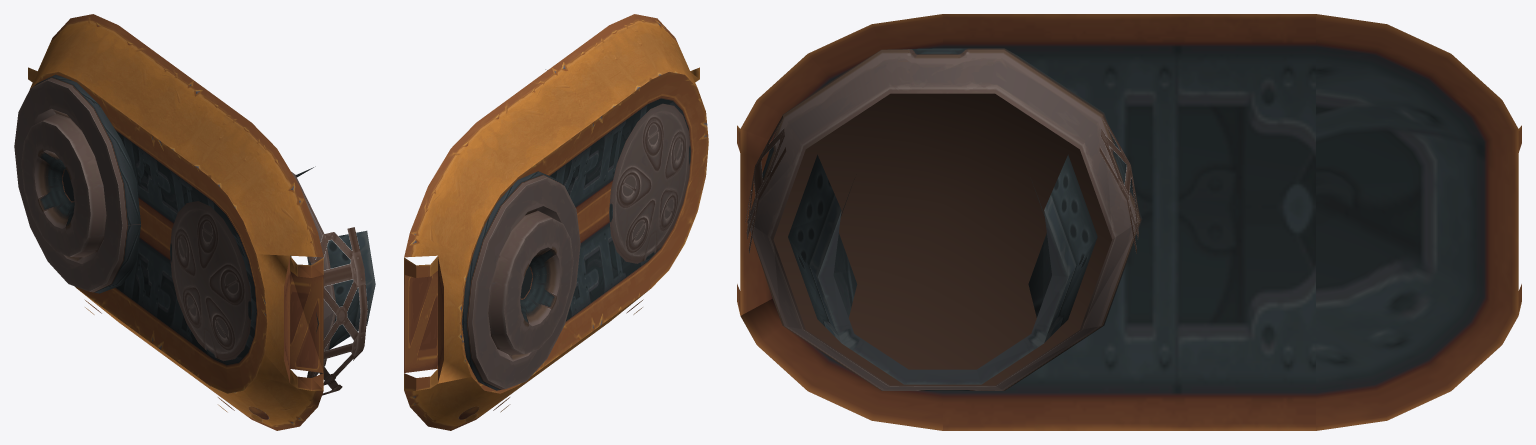
Rendered from reactor_cap-mirrored.glb.
3 renders of one model, left to right at view 1: azimuth 30°, elevation 25°; view 2: azimuth 150°, elevation 25°; view 3: azimuth 270°, elevation 25°, orthographic. The views are drawn at different scales.
Parts seen in each view (by area): view 1: reactor.reactor_cap-mirrored-Mesh[1], reactor.reactor_cap-mirrored-Mesh[0]; view 2: reactor.reactor_cap-mirrored-Mesh[1]; view 3: reactor.reactor_cap-mirrored-Mesh[1], reactor.reactor_cap-mirrored-Mesh[0].
Part boxes in pixels (left/top/right/bottom): reactor.reactor_cap-mirrored-Mesh[1]: left=14, top=14, right=375, bottom=430; reactor.reactor_cap-mirrored-Mesh[0]: left=309, top=227, right=367, bottom=395; reactor.reactor_cap-mirrored-Mesh[1]: left=404, top=14, right=708, bottom=430; reactor.reactor_cap-mirrored-Mesh[1]: left=737, top=14, right=1521, bottom=430; reactor.reactor_cap-mirrored-Mesh[0]: left=745, top=116, right=1140, bottom=253.
Size of the model in its own units: 1.87 by 3.7 by 6.31.
Materials: 2 (2 with a texture image).
